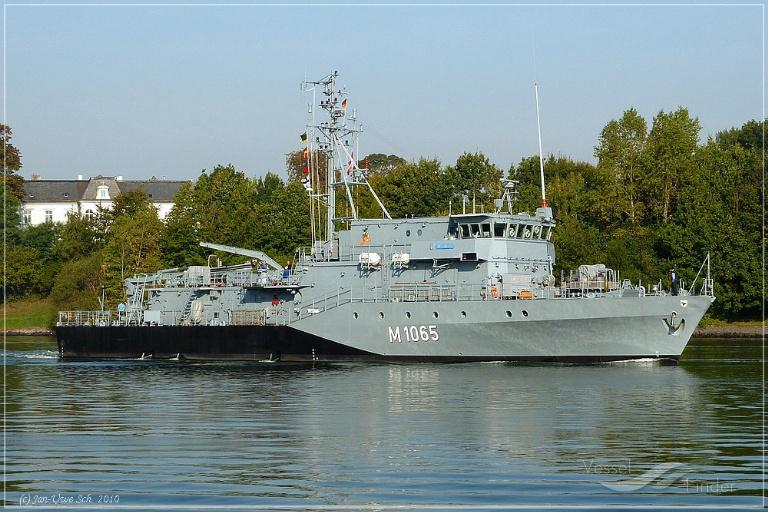OCR: (384, 324, 440, 346)
